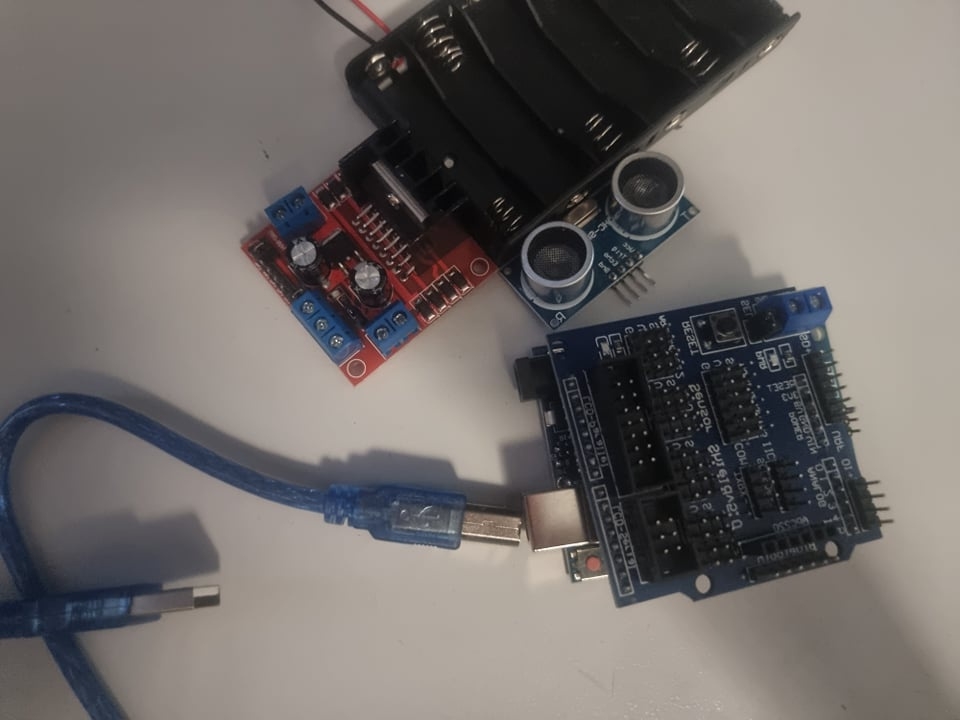5V EXPANSION: (590, 285, 887, 596)
BATTERY BOX: (351, 1, 801, 250)
MOTOR: (236, 128, 480, 379)
SENSOR: (512, 150, 701, 316)
UNO R3: (511, 343, 606, 604)
